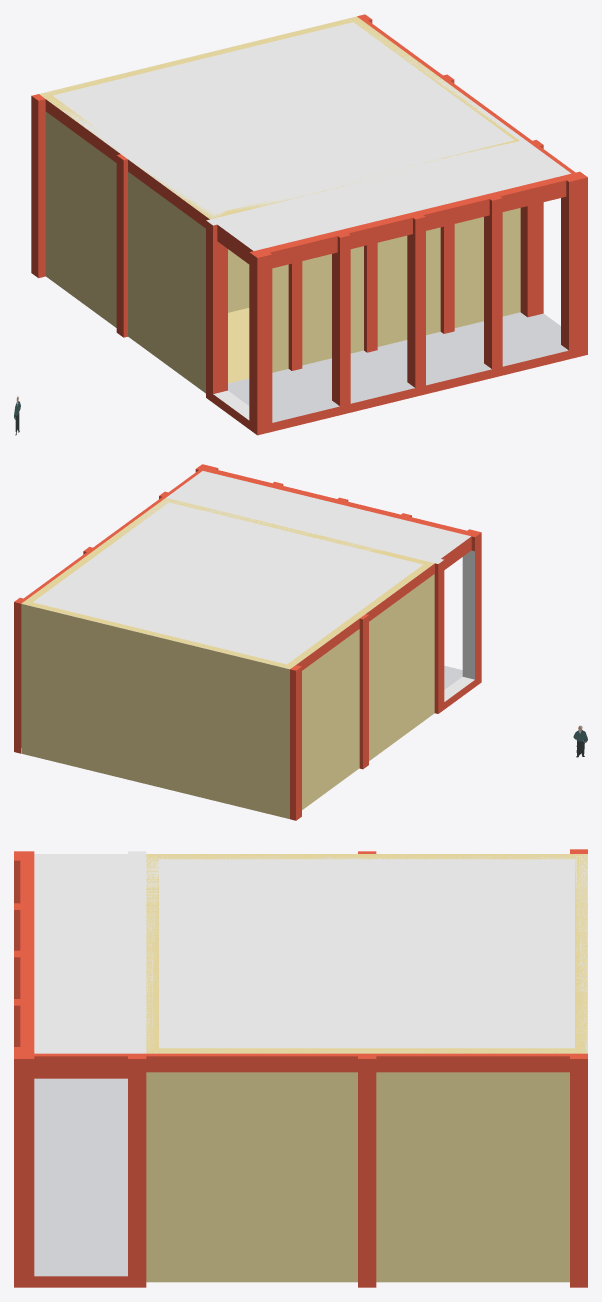
3 views of the same model, one above another, from view 1: azimuth 30°, elevation 25°; view 2: azimuth 150°, elevation 25°; view 3: azimuth 270°, elevation 25° (orthographic). The views are drawn at different scales.
Visible parts, largest first — view 1: Model, Group1; view 2: Group1, Model; view 3: Model, Group1.
Part boxes in pixels (bbox=[...]): Model: bbox=[31, 14, 587, 435]; Group1: bbox=[39, 16, 520, 393]; Group1: bbox=[21, 497, 434, 818]; Model: bbox=[14, 464, 481, 820]; Model: bbox=[14, 849, 587, 1287]; Group1: bbox=[146, 854, 587, 1282].
Bounding box in the file's own units: 24.31 × 8 × 18.21.
